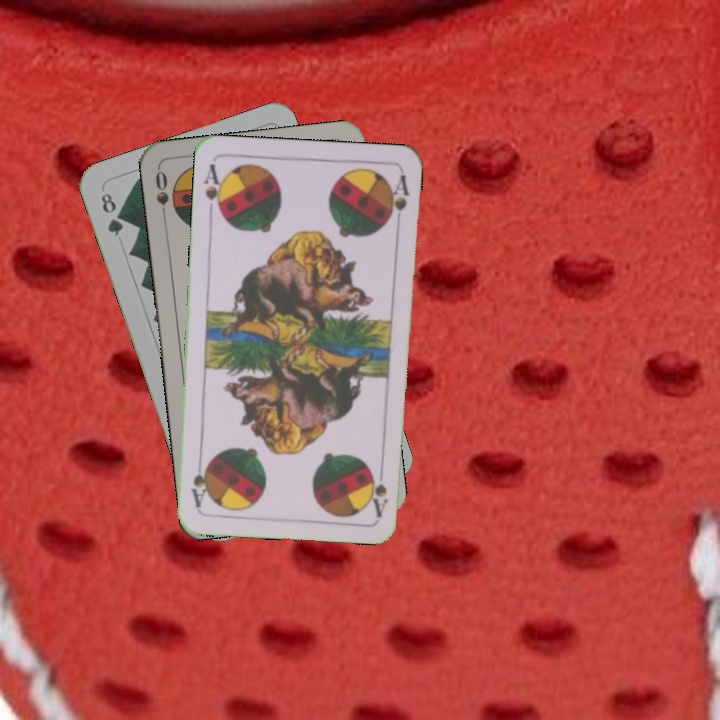G8: (97, 189, 126, 239)
SA: (200, 159, 227, 219), (369, 459, 390, 518)
SO: (151, 166, 172, 225)
